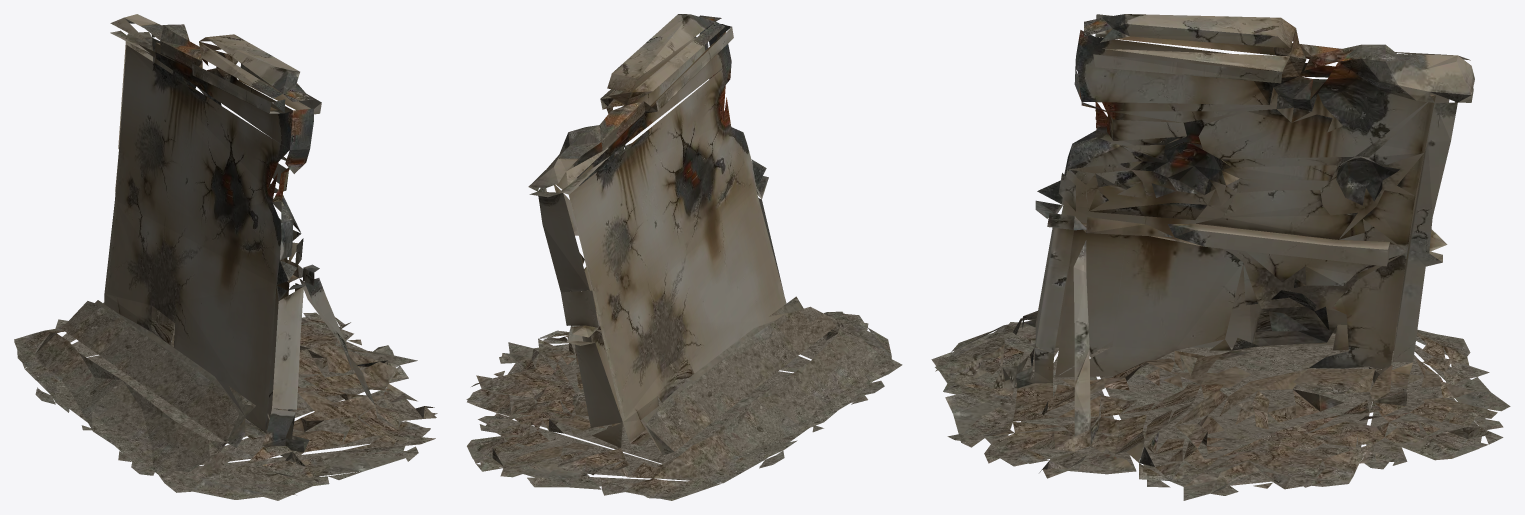
File: ruined_wall_LOD1.glb
3 views of the same model, side by side, from view 1: azimuth 30°, elevation 25°; view 2: azimuth 150°, elevation 25°; view 3: azimuth 270°, elevation 25° (orthographic). The views are drawn at different scales.
Parts seen in each view (by area): view 1: ruined_wall_LOD1; view 2: ruined_wall_LOD1; view 3: ruined_wall_LOD1.
Part boxes in pixels (<box>): ruined_wall_LOD1: <box>14,14,437,500</box>; ruined_wall_LOD1: <box>466,14,902,500</box>; ruined_wall_LOD1: <box>931,14,1510,500</box>.
Size of the model in its own units: 0.7481 by 0.7501 by 0.9864.
1 material, 1 textured.
